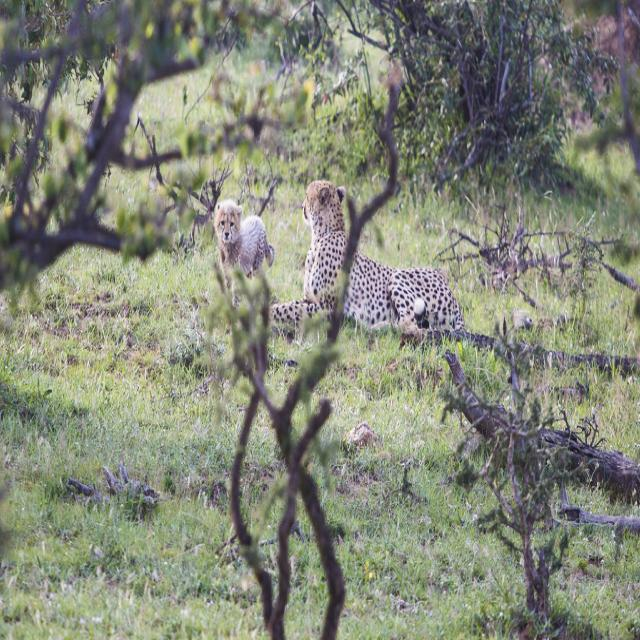Cheetah: (268, 165, 478, 346)
